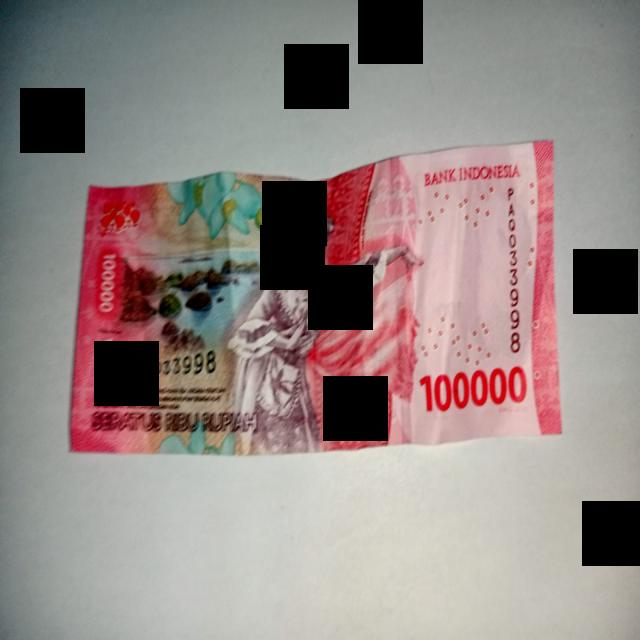seratusribu rupiah: (71, 142, 561, 454)
